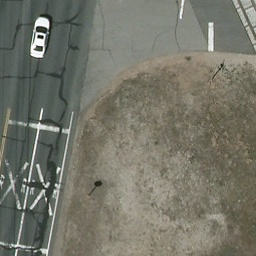car: (30, 16, 51, 59)
